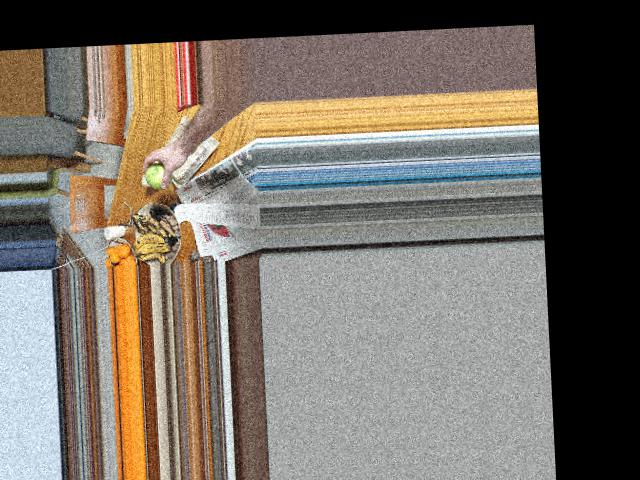apple: (144, 160, 173, 189)
